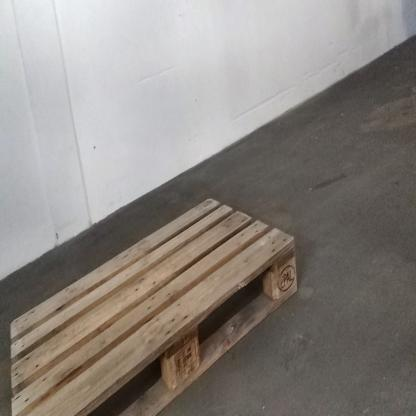BoxFace: (9, 195, 301, 416)
